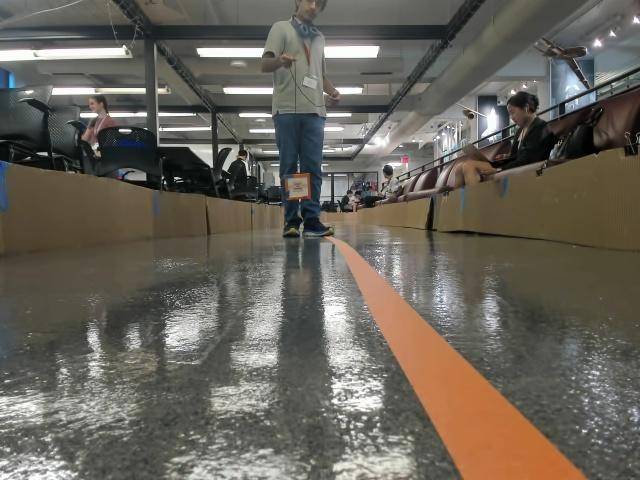Do Not Go Around: (289, 181, 306, 192)
